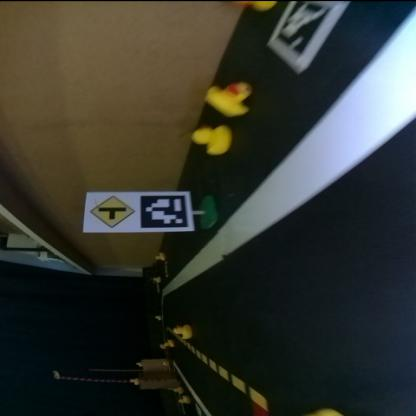Duckie: (207, 82, 252, 115), (192, 126, 230, 154), (174, 325, 190, 338), (156, 254, 164, 260)
Intersection sign: (84, 194, 134, 228)
QR code: (268, 3, 344, 68), (139, 192, 189, 230)
